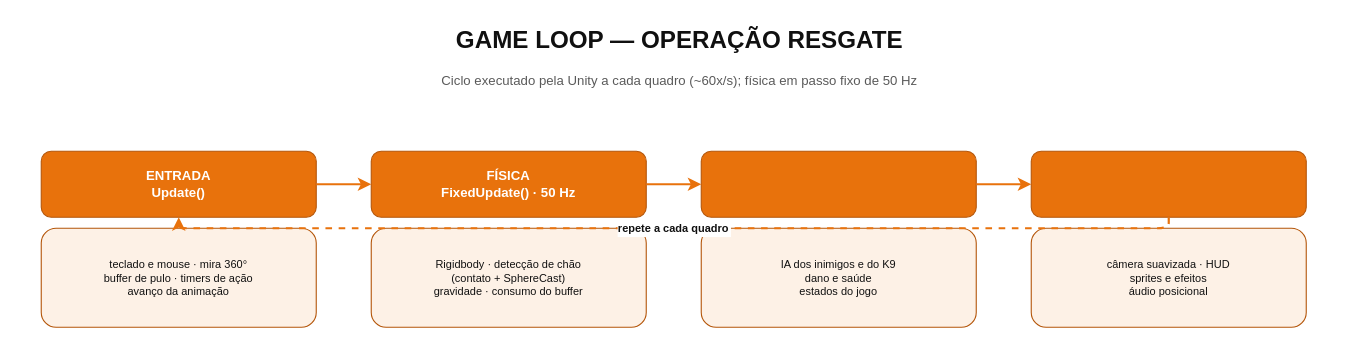
The diagram is 1357 pixels wide and 347 high, and some of its shapes have lost their labels. Here are the shapes that lost their labels. From the top down, the box of each, then its label:
(700, 150, 976, 217): LÓGICA Eventos de combate
(1030, 150, 1306, 217): SAÍDA LateUpdate() / Render
